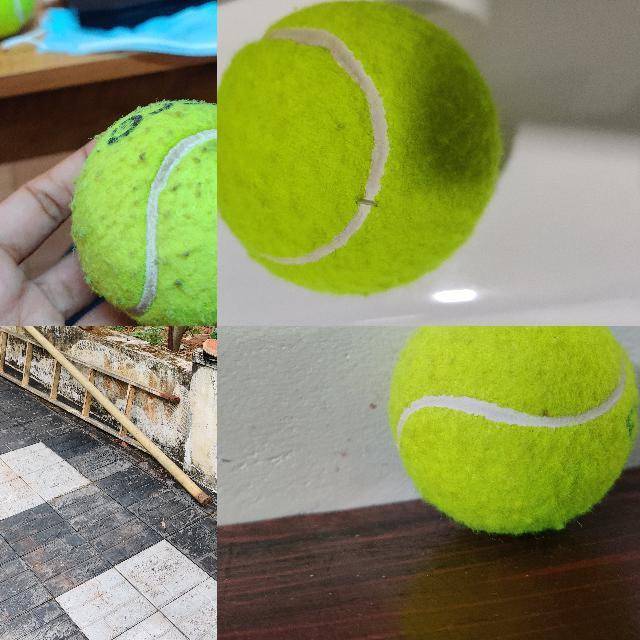tennis-ball: (217, 0, 507, 298), (388, 326, 639, 536), (70, 98, 216, 325)
